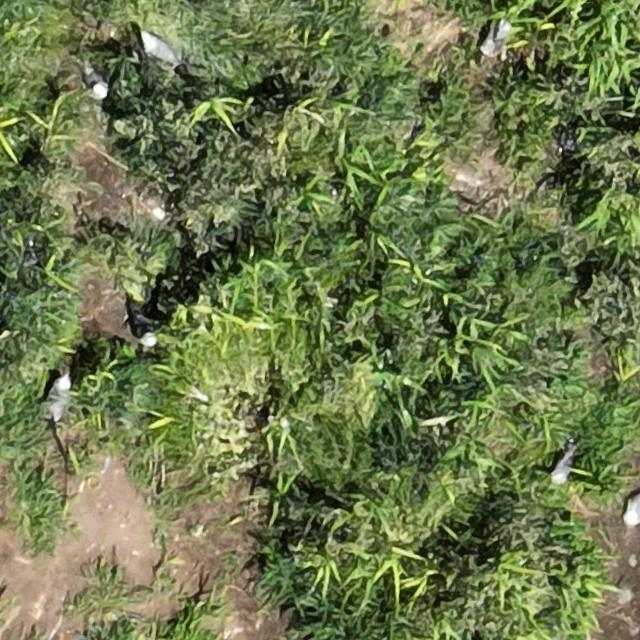umineko: (48, 375, 72, 416), (145, 37, 178, 63), (86, 67, 107, 99), (552, 453, 571, 485), (135, 332, 162, 352), (627, 490, 639, 522)
